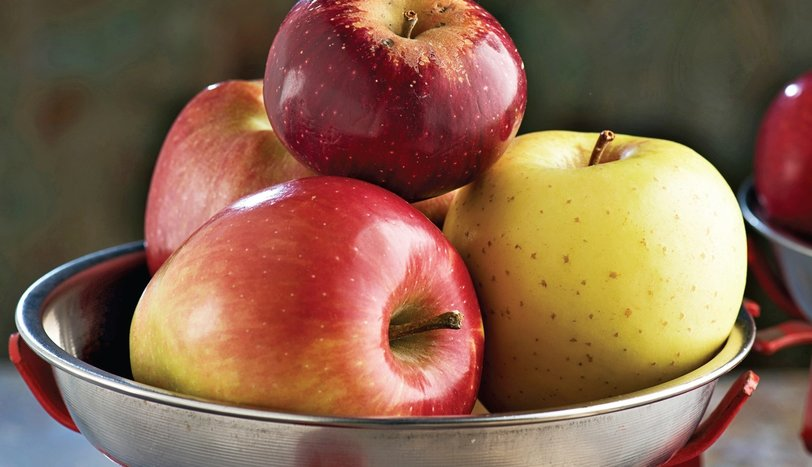apple: (122, 173, 489, 413)
